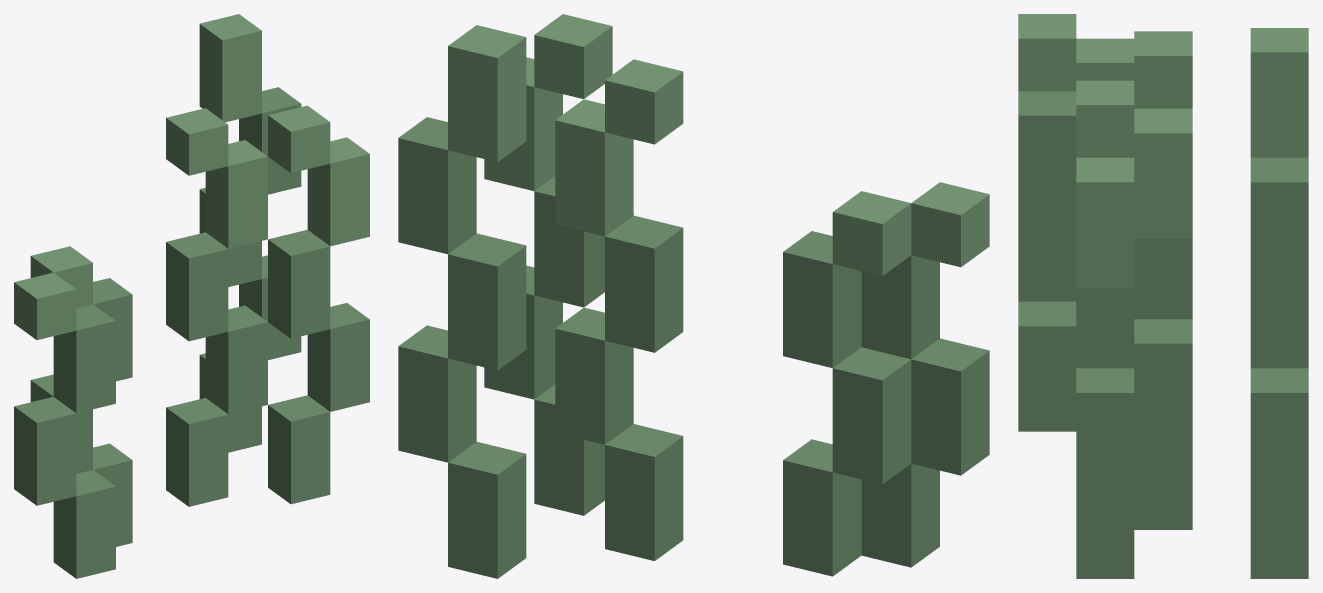
The model's file is alga_parda_05.glb.
3 renders of one model, left to right at view 1: azimuth 30°, elevation 25°; view 2: azimuth 150°, elevation 25°; view 3: azimuth 270°, elevation 25°, orthographic. The views are drawn at different scales.
Parts seen in each view (by area): view 1: alga_parda_05; view 2: alga_parda_05; view 3: alga_parda_05.
Boxes of the visible parts, x1,y1,x2,y2 form: alga_parda_05: (14,14,369,578); alga_parda_05: (398,14,989,578); alga_parda_05: (1018,14,1308,578).
Bounding box in the file's own units: 0.9 × 1 × 0.5.
